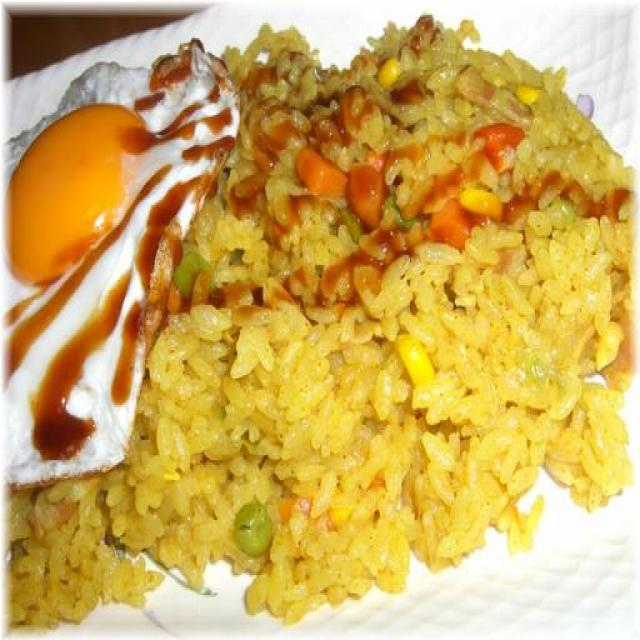米饭主食: (28, 27, 626, 620)
